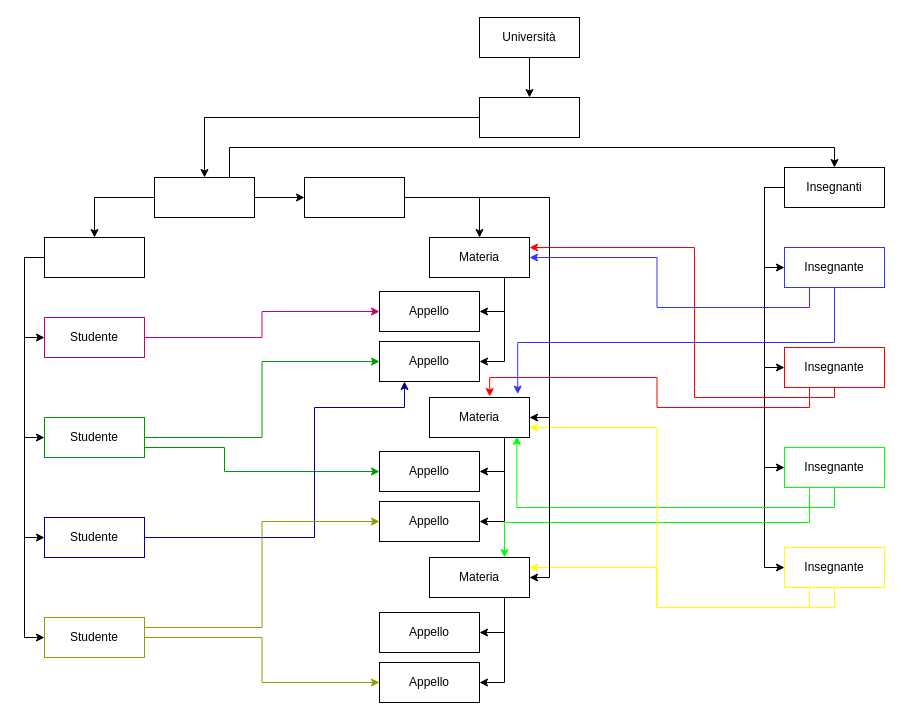
Image size: 902x720. Some labels were removed from this diagram. The centre of each missing label's shape, as x and y in pixels:
Corso Laurea: (x=204, y=197)
Dipartimento: (x=529, y=117)
Materie: (x=354, y=197)
Studenti: (x=94, y=257)
